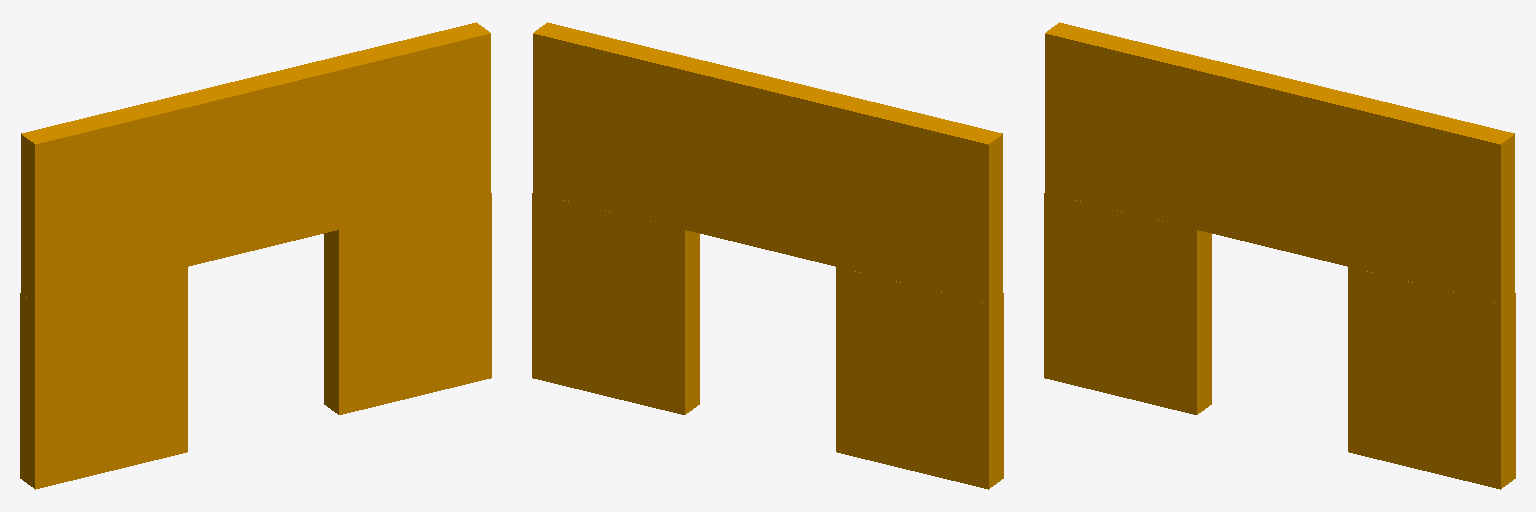
The robot description file, URDF, robot "gate":
<?xml version="1.0" encoding="UTF-8"?>
<robot name="gate">
	<link name="base">
		<collision>
			<geometry>
				<mesh filename="../vhacd/gate_vhacd.obj" scale="1.0 1.0 1.0"/>
			</geometry>
			<origin xyz="0 0 0"/>
			<contact_coefficients mu="0.24" />
		</collision>
		<visual>
			<geometry>
				<mesh filename="../vhacd/gate_vhacd.obj" scale="1.0 1.0 1.0"/>
			</geometry>
			<origin xyz="0 0 0"/>
		</visual>
		<inertial>
			<mass value="0"/>
			<inertia ixx="0.0" ixy="-0.0" ixz="-0.0" iyy="0.0" iyz="-0.0" izz="0.0" />
			<origin xyz="0.8999999631196246 0.050000000745058046 0.7156249791150913"/>
		</inertial>
	</link>
</robot>

--- What the picture shows (computed from the rendered views, not written in the file) ---
The picture shows the robot from 3 angles, left to right: view 1: azimuth 30°, elevation 25°; view 2: azimuth 150°, elevation 25°; view 3: azimuth 330°, elevation 25°; orthographic projection.
Robot: gate — 1 links, 0 joints (none); root link base; default pose: all joints at 0.
Visible links, largest first — view 1: base; view 2: base; view 3: base.
Link boxes in pixels (bbox=[...]): base: bbox=[20, 22, 491, 489]; base: bbox=[532, 22, 1003, 489]; base: bbox=[1044, 22, 1515, 489].
Size in the robot's own frame: 1.8 by 0.1018 by 1.3 metres.
Meshes: 1 distinct files referenced, 1 mesh visuals loaded (1 OBJ).